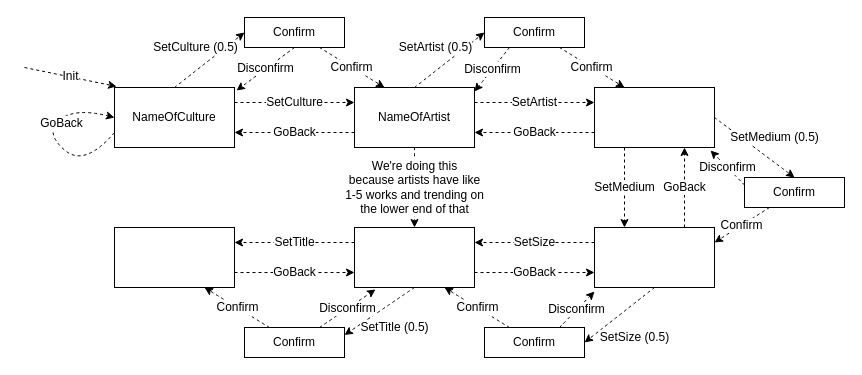
This 862x375 diagram has some shape labels left out. Here are the shapes that lost their labels. From the top down, the centre of each, then its label:
[654,117]: NameOfMedium
[174,257]: Explain
[414,257]: NameOfArt
[654,257]: SizeOfArt
